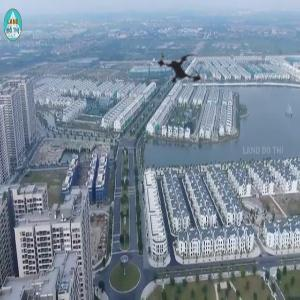drone: (134, 24, 227, 117)
